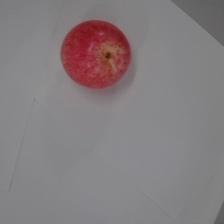red: (56, 15, 137, 94)
